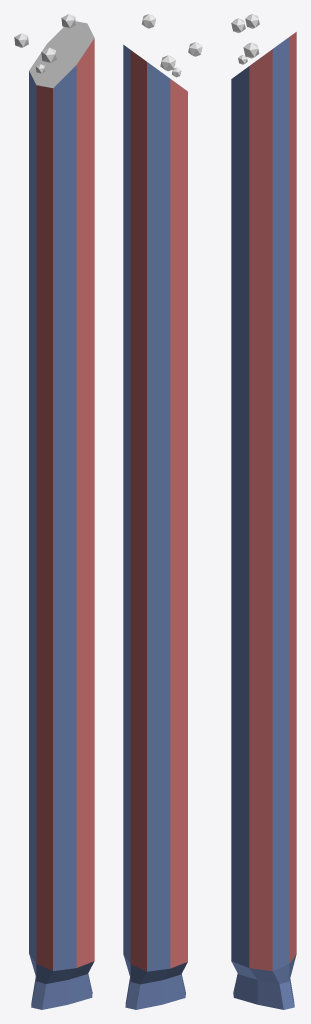
Rendered from PixieStix.glb.
3 views of the same model, side by side, from view 1: azimuth 30°, elevation 25°; view 2: azimuth 210°, elevation 25°; view 3: azimuth 330°, elevation 25° (orthographic).
Visible parts, largest first — view 1: Cube.002; view 2: Cube.002; view 3: Cube.002.
Part boxes in pixels (x1,y1,x2,y2): Cube.002: (14,14,94,1009); Cube.002: (123,14,202,1009); Cube.002: (231,14,296,1009).
Bounding box in the file's own units: 17.65 × 239 × 12.84.
